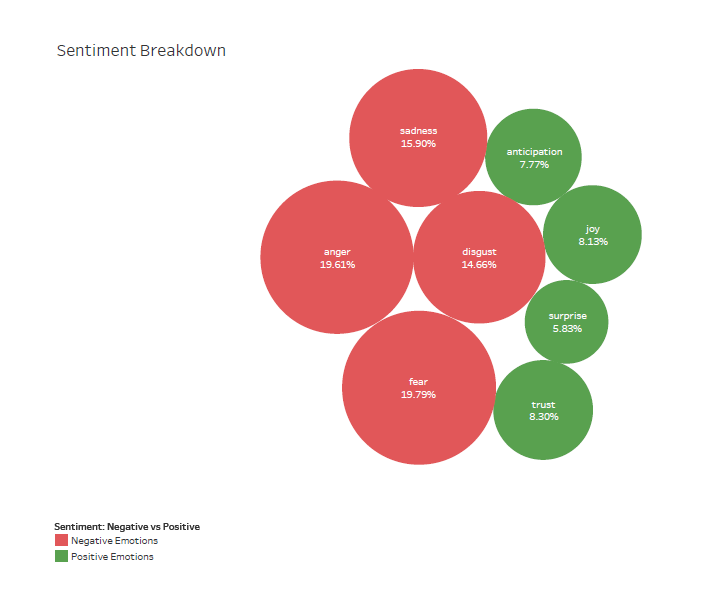

Layout of this report page (visuals, bound fields, positions):
{"tool":"tableau","page":{"name":"Dashboard 1","canvas":[1000,800],"ordinal":0},"visuals":[{"type":"worksheet","title":"Sheet 2","mark":"Circle","box":[0,0,1000,603]},{"type":"legend","title":"Sheet 2","param":"[federated.05f475q0fxkyz3125lvfi1or8q45].[Sentiment.Y (group)]","box":[0,603,1000,197]}]}

Visuals, with their boxes on the page's 1000x800 design canvas (x1, y1, x2, y2). These are canvas units, not pixel positions in the 702x610 screenshot, which may show the page scaled, cropped or inside an application window:
"Sheet 2" worksheet (Circle marks): 0, 0, 1000, 603
"Sheet 2" legend: 0, 603, 1000, 800
